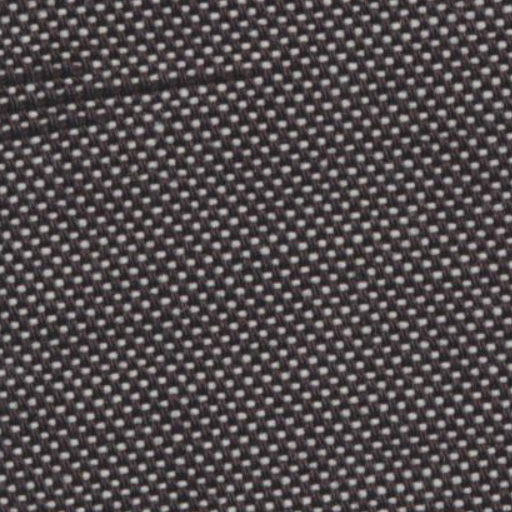DaiSha: (12, 42, 258, 146)
